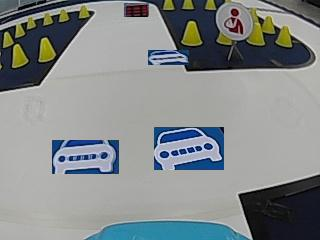cone: (181, 20, 202, 46), (38, 37, 55, 62), (248, 21, 265, 46), (11, 44, 28, 67), (276, 25, 292, 47), (263, 16, 274, 33), (77, 5, 90, 19), (2, 31, 14, 46), (58, 8, 70, 22), (42, 12, 53, 25), (15, 23, 26, 36), (162, 0, 174, 10), (182, 0, 194, 10), (204, 0, 216, 10), (26, 16, 36, 28)
patient: (223, 1, 251, 38)
